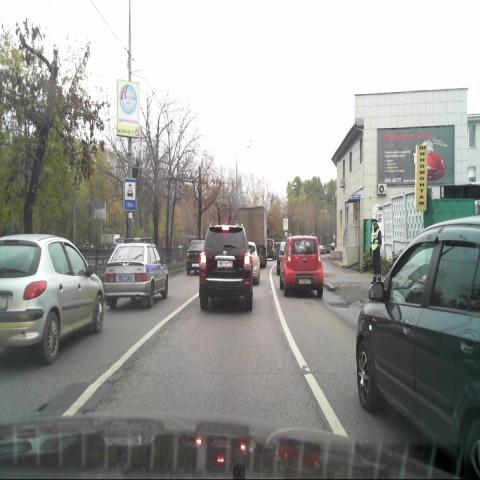7_5: (123, 178, 136, 211)
